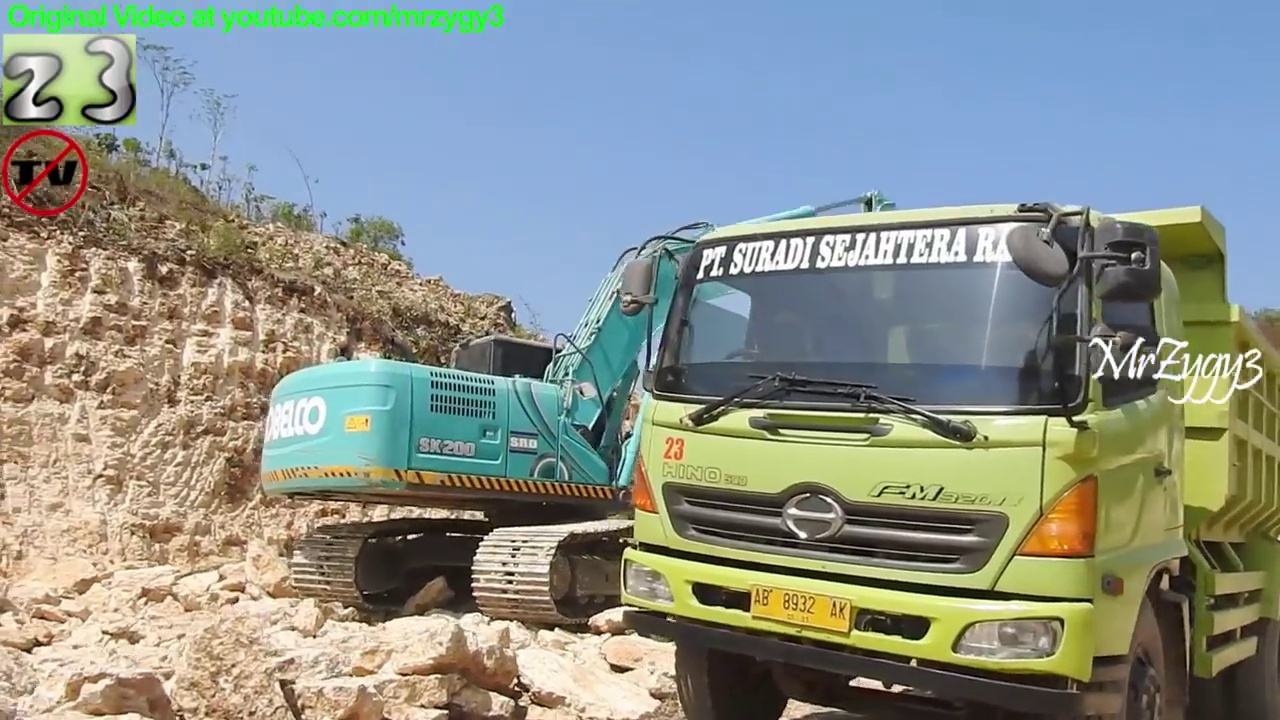excavator: (251, 183, 1077, 640)
truck: (610, 189, 1280, 720)
